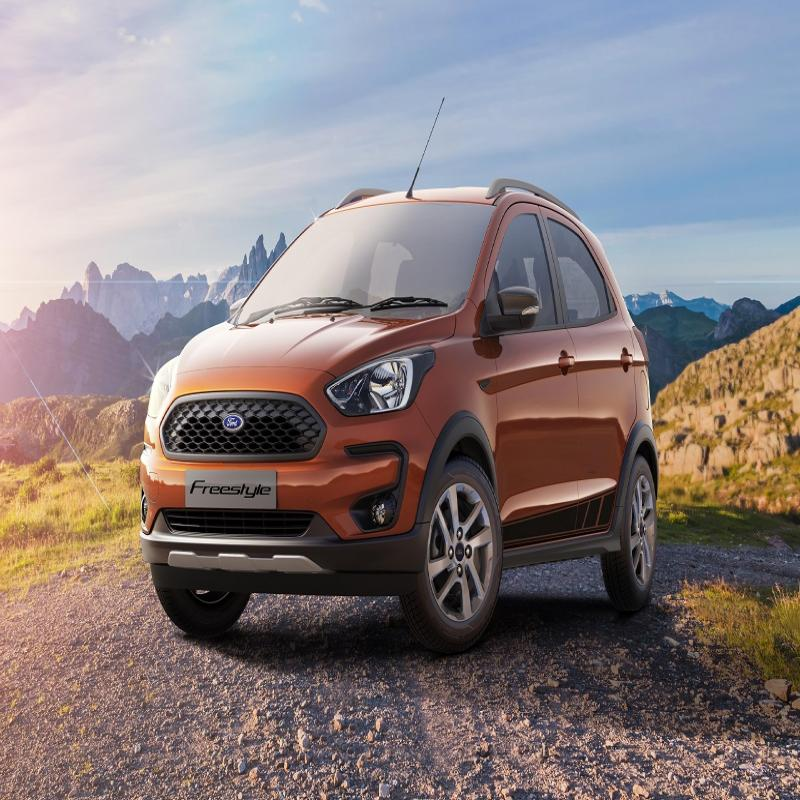car: (127, 172, 670, 643)
